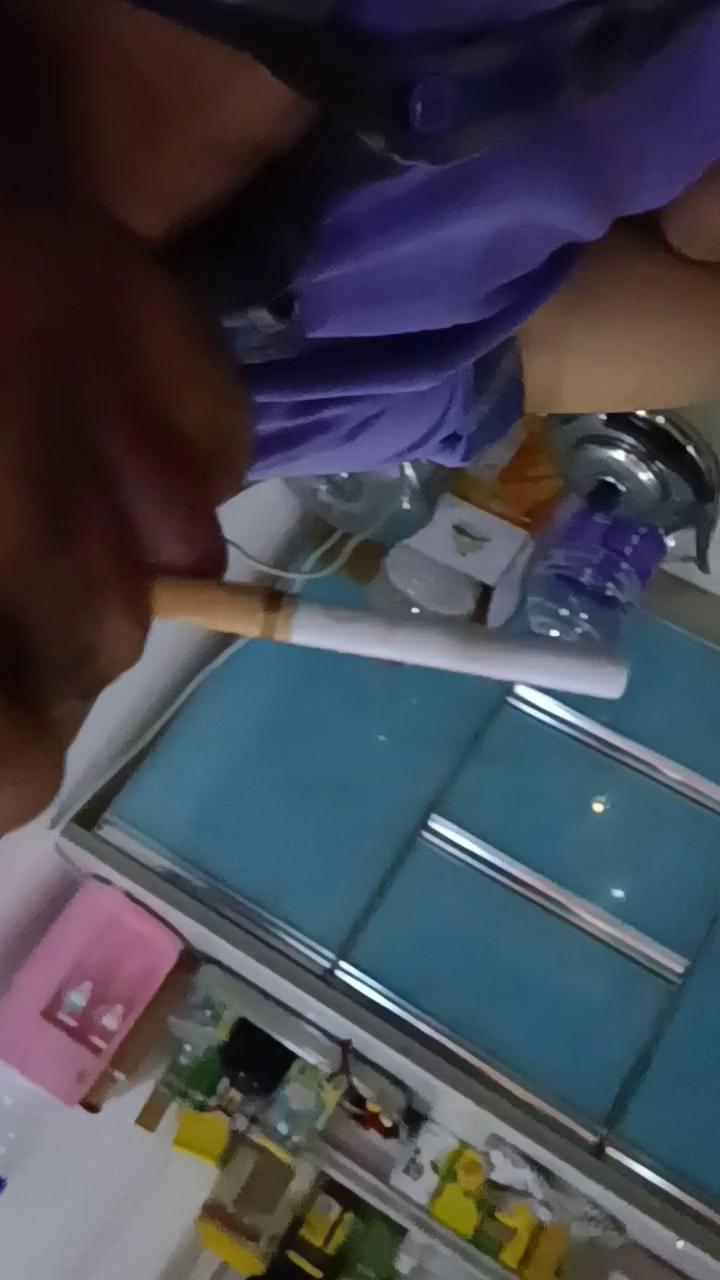smoke: (149, 575, 631, 703)
